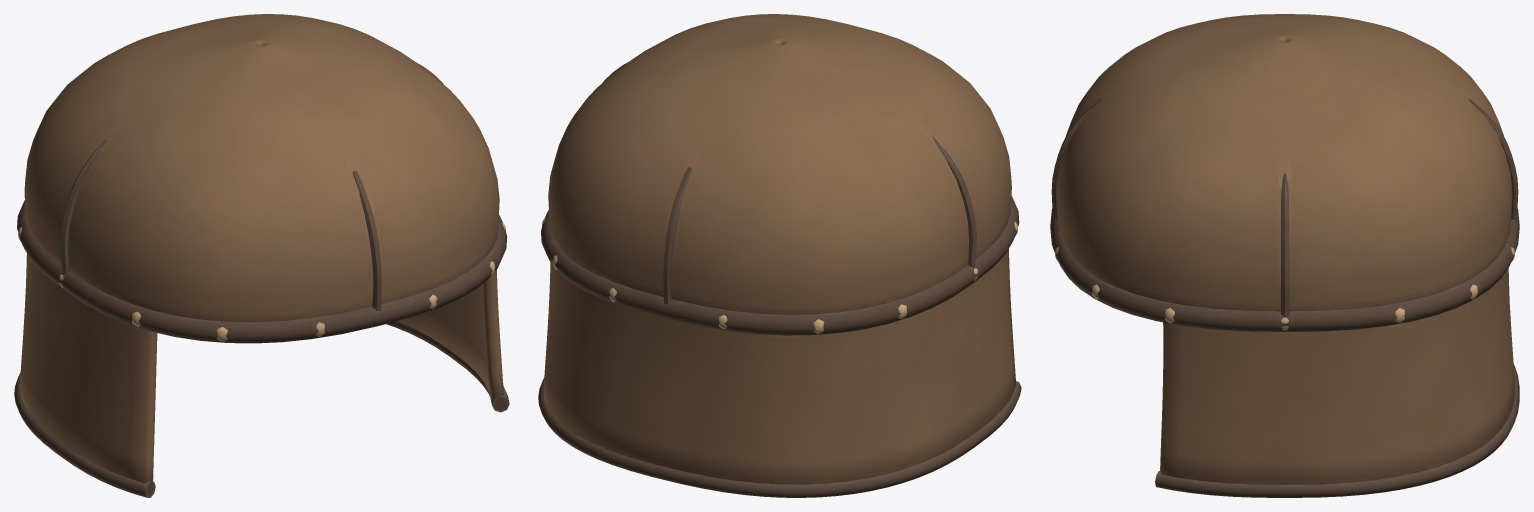
Rendered from leather_helmet.fbx.
3 views of the same model, side by side, from view 1: azimuth 30°, elevation 25°; view 2: azimuth 150°, elevation 25°; view 3: azimuth 270°, elevation 25° (orthographic). The views are drawn at different scales.
Parts seen in each view (by area): view 1: Head; view 2: Head; view 3: Head.
Part boxes in pixels (left/top/right/bottom): Head: left=14, top=14, right=509, bottom=497; Head: left=538, top=14, right=1021, bottom=497; Head: left=1050, top=14, right=1519, bottom=497.
Size of the model in its own units: 1.58 by 1.35 by 1.58.
Materials: 1 (1 with a texture image).
